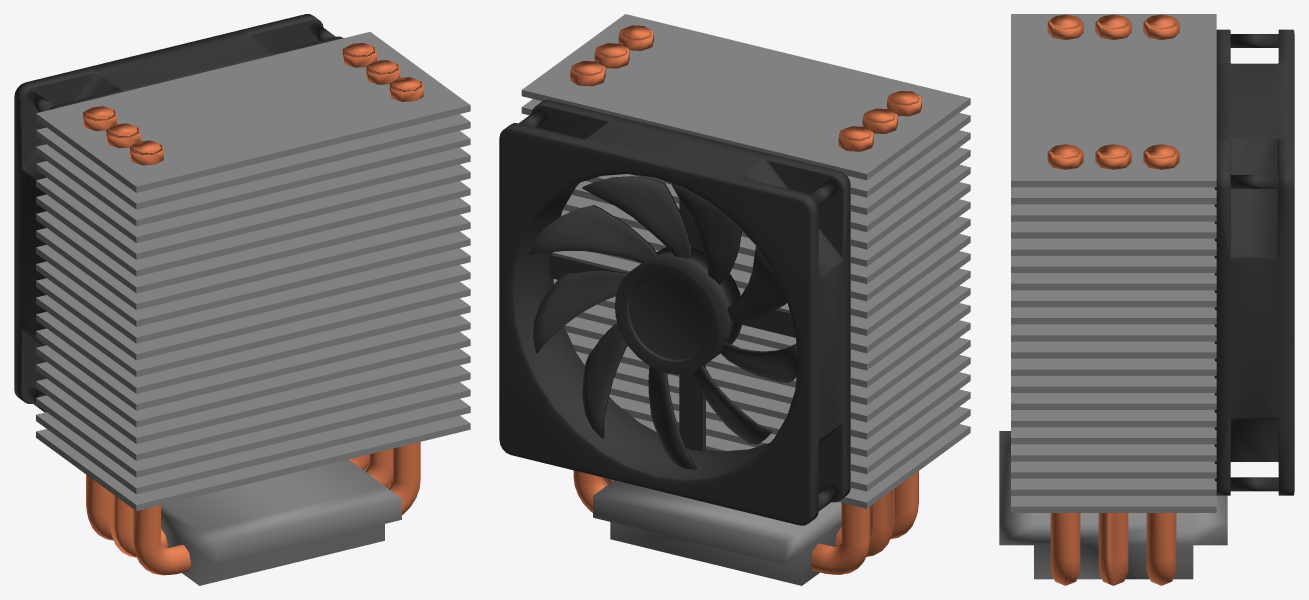
The model's file is COOLER.fbx.
3 renders of one model, left to right at view 1: azimuth 30°, elevation 25°; view 2: azimuth 150°, elevation 25°; view 3: azimuth 270°, elevation 25°, orthographic. The views are drawn at different scales.
Parts seen in each view (by area): view 1: COOLER; view 2: COOLER; view 3: COOLER.
Boxes of the visible parts, bbox=[...] form: COOLER: bbox=[14, 14, 470, 585]; COOLER: bbox=[499, 14, 970, 585]; COOLER: bbox=[999, 14, 1294, 585].
Size of the model in its own units: 244 by 305 by 182.
